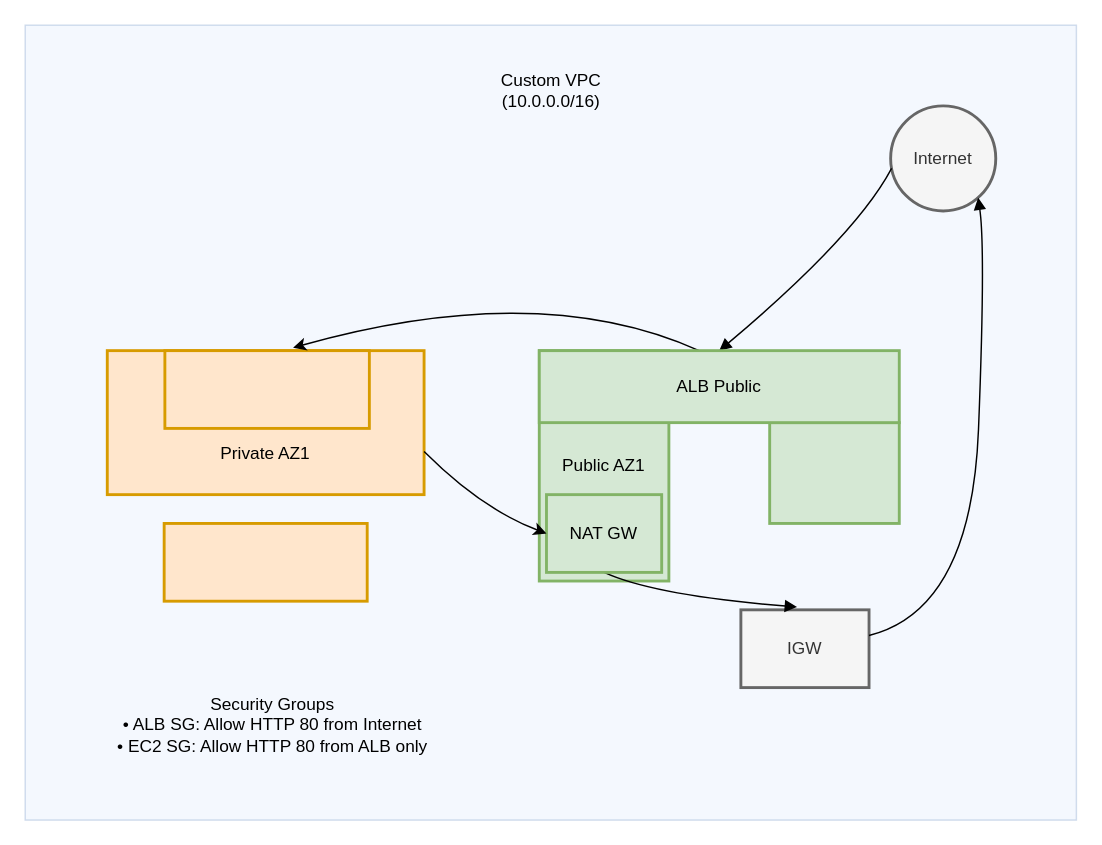
This 1102x845 diagram has some shape labels left out. The shapes that lost their labels are listed below. From the top down, each one's centre as x and y in pixels, then its label:
At [266,388]: "EC2 Private".
At [834,472]: "Public AZ2".
At [265,561]: "Private AZ2 (Reserved)".
